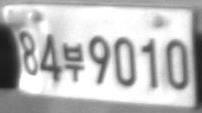0: (164, 38, 189, 90), (113, 36, 136, 86)
1: (139, 37, 162, 88)
4: (38, 33, 62, 81)
8: (18, 30, 38, 76)
9: (88, 34, 111, 84)
부: (62, 42, 85, 82)
